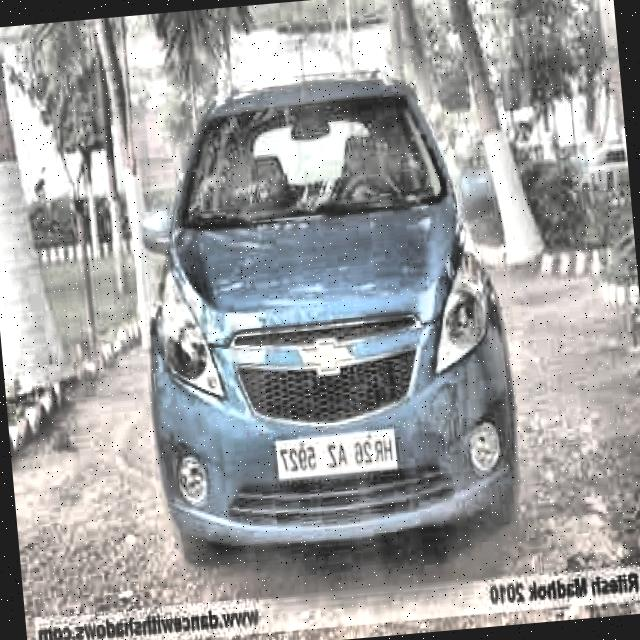license_plate: (274, 432, 397, 486)
